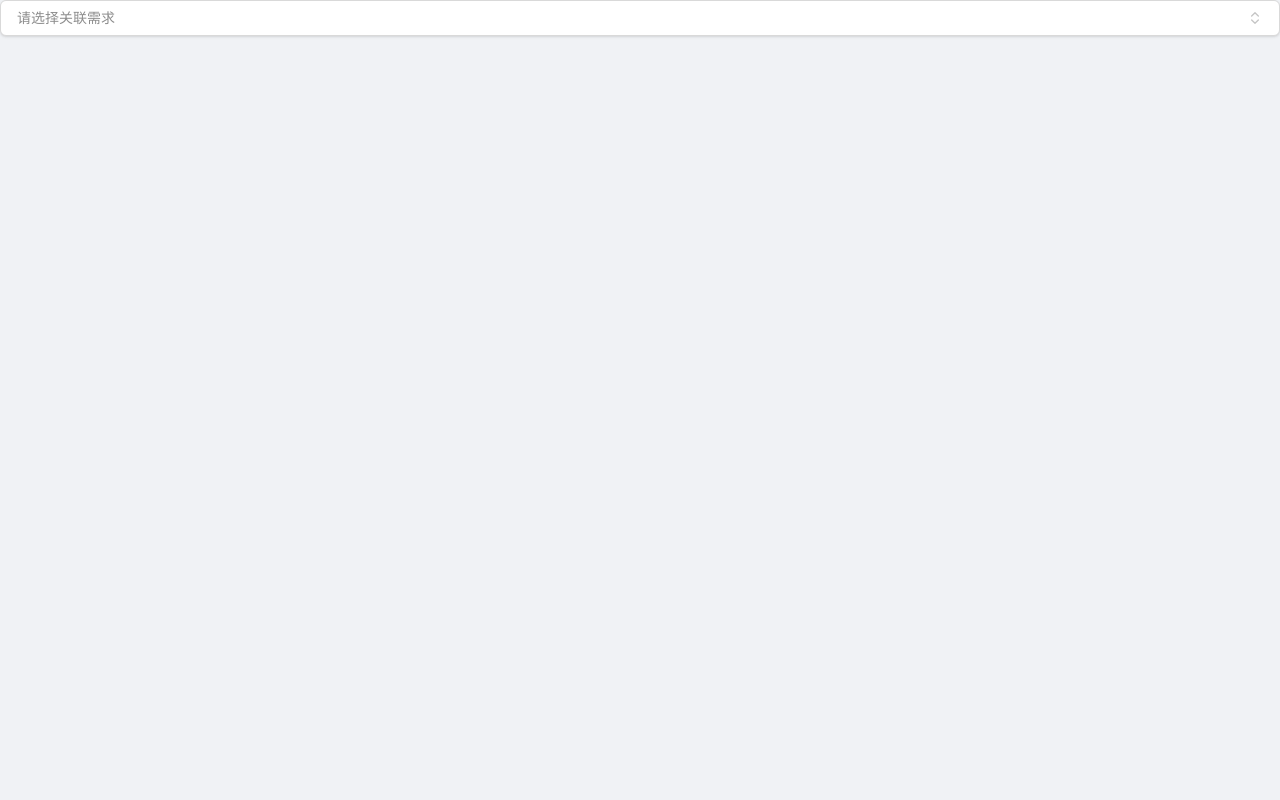
Scenario: RequirementSelect › 关闭后重开清除上次搜索词
Step 1. Click the dropdown → (66, 18), box [0, 0, 1279, 36]
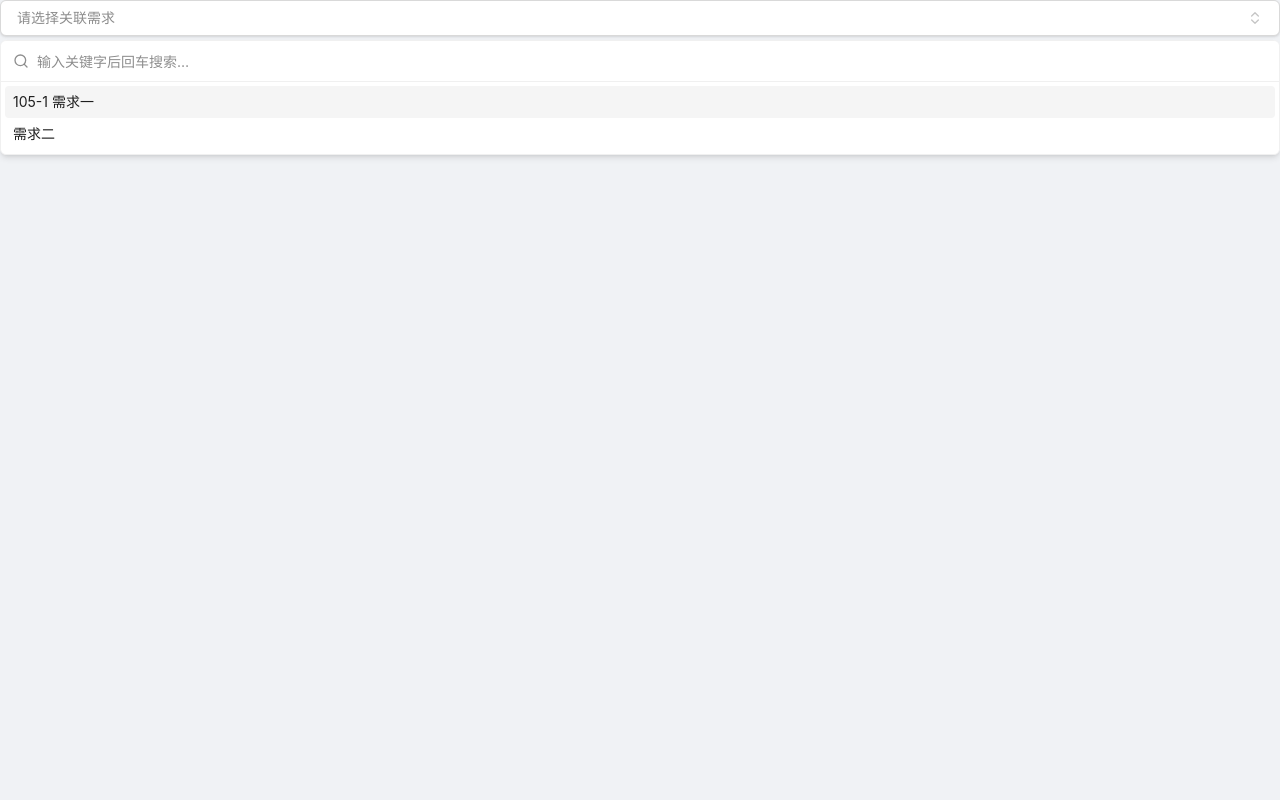
Step 2. Type "交付" into the dropdown with placeholder "输入关键字后回车搜索…" → (652, 61), box [37, 41, 1267, 81]
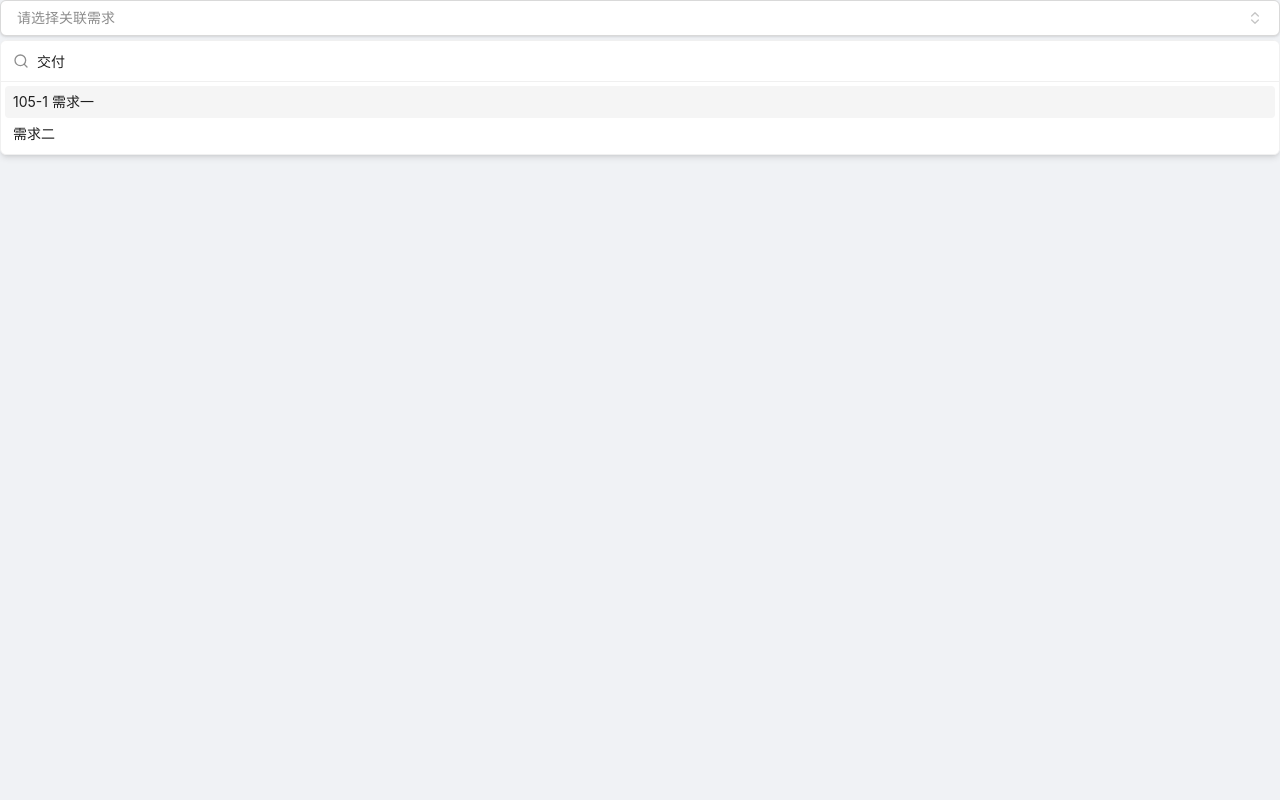
# 关闭（再次点击 trigger）后重开
Step 3. Click the dropdown labelled "请选择关联需求" → (66, 18), box [0, 0, 1279, 36]
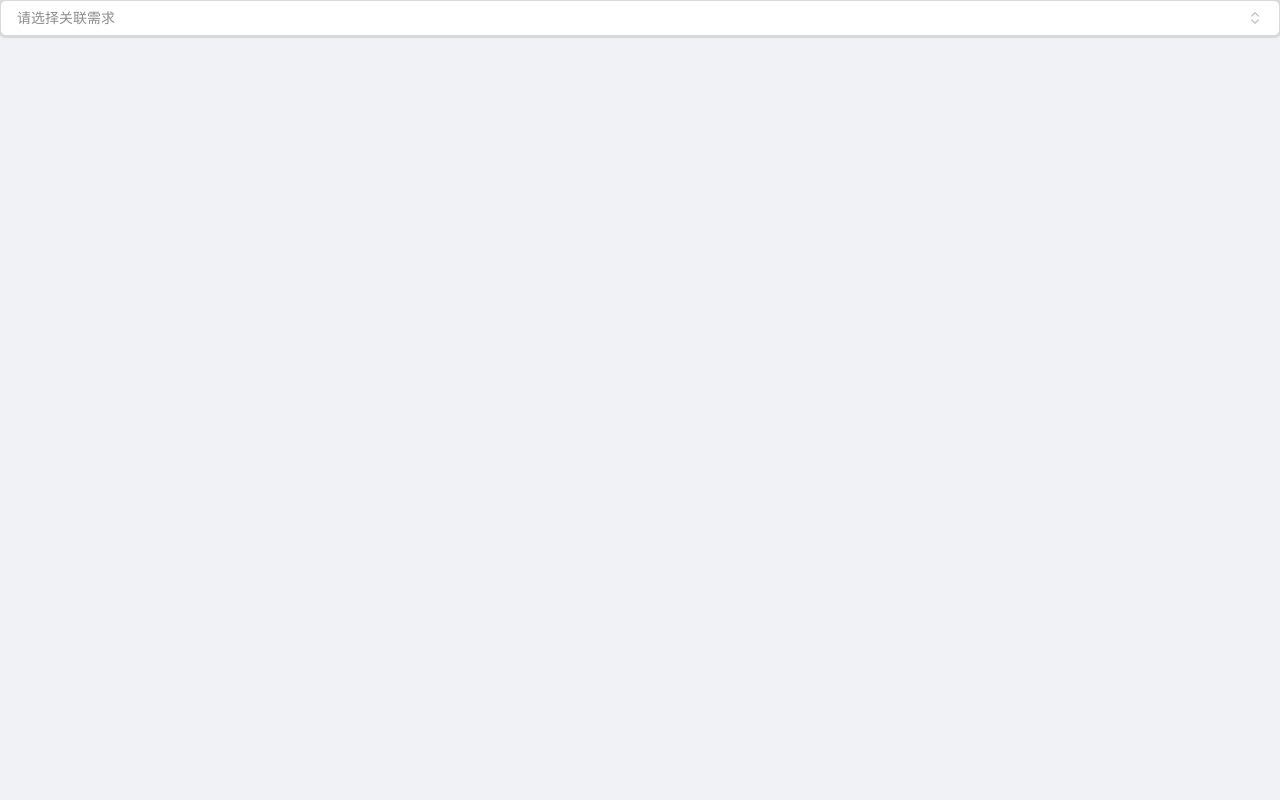
Step 4. Click the dropdown → (66, 18), box [0, 0, 1279, 36]
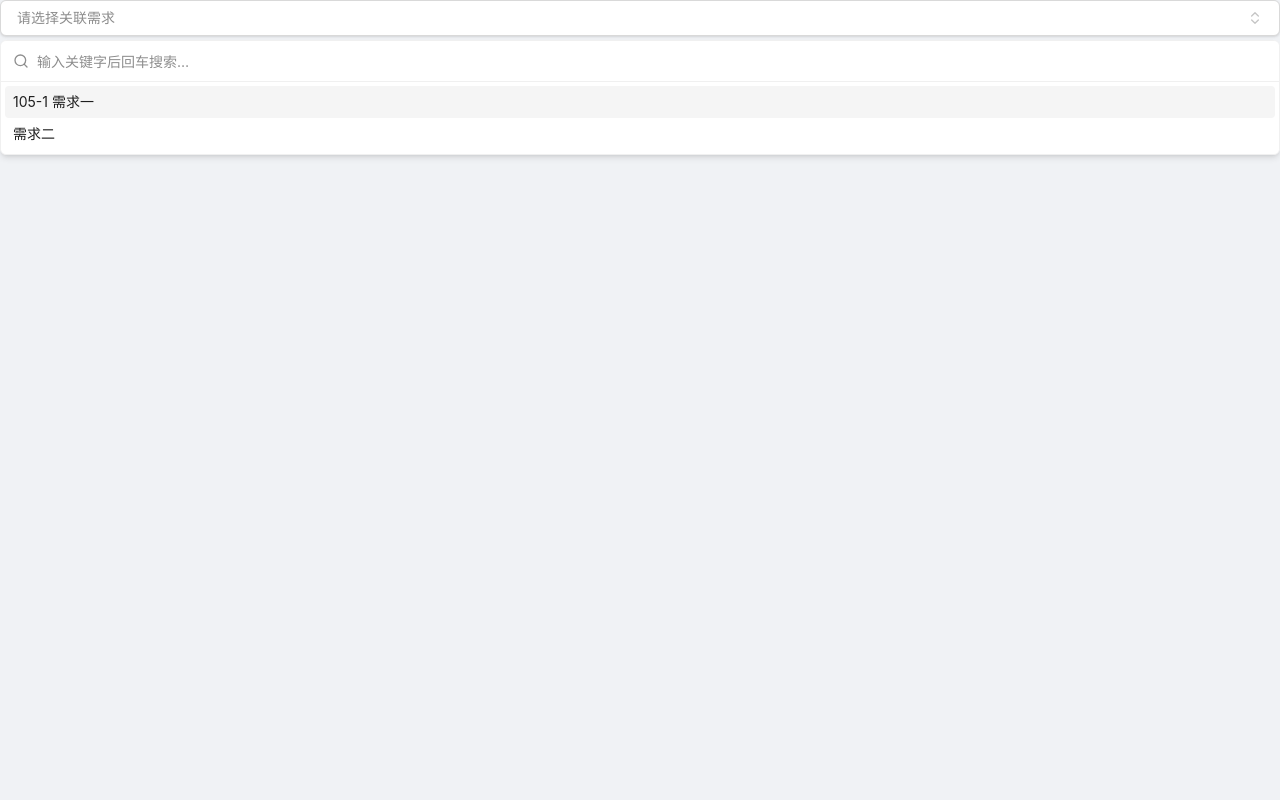
expect the dropdown with placeholder "输入关键字后回车搜索…" is empty: met, box [37, 41, 1267, 81]
